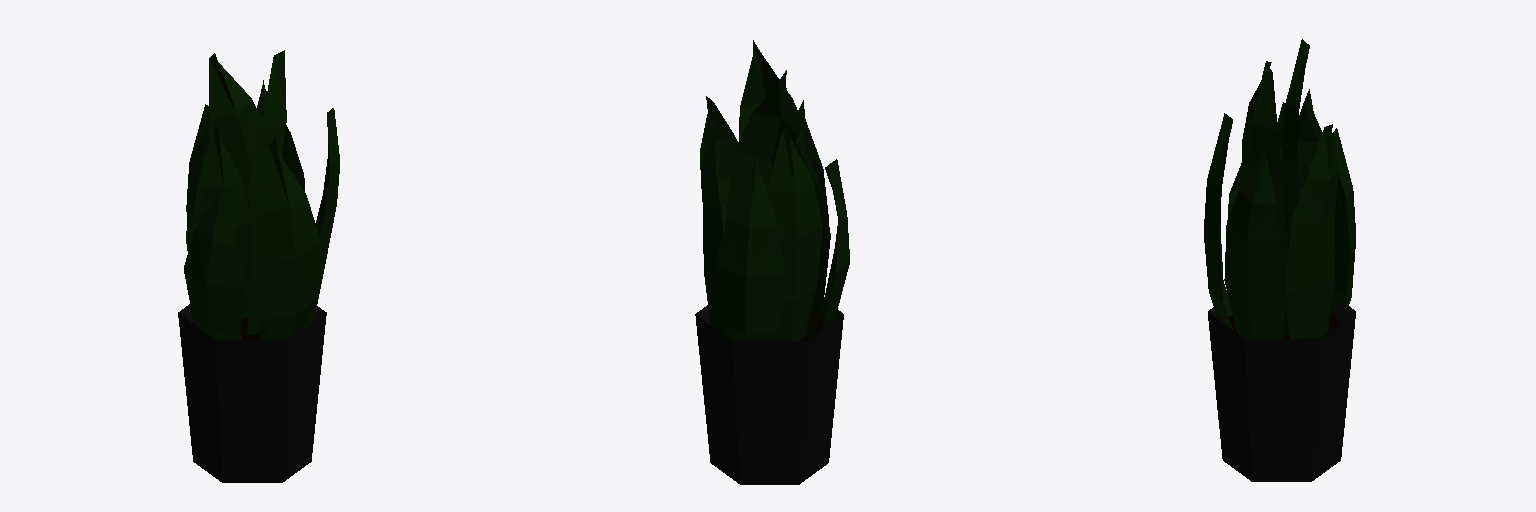
Rendered from FlowerPot8.obj.
3 renders of one model, left to right at view 1: azimuth 30°, elevation 25°; view 2: azimuth 150°, elevation 25°; view 3: azimuth 270°, elevation 25°, orthographic.
Visible parts, largest first — view 1: FlowerPot8_Plane.027; view 2: FlowerPot8_Plane.027; view 3: FlowerPot8_Plane.027.
Part boxes in pixels (bbox=[...]): FlowerPot8_Plane.027: bbox=[178, 50, 339, 482]; FlowerPot8_Plane.027: bbox=[695, 40, 849, 484]; FlowerPot8_Plane.027: bbox=[1204, 39, 1355, 481].
Bounding box in the file's own units: 0.5989 × 1.67 × 0.5617.